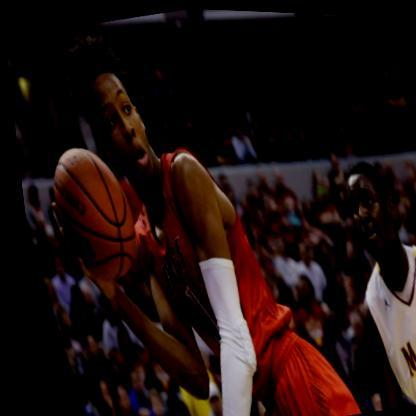basketball: (35, 140, 143, 284)
